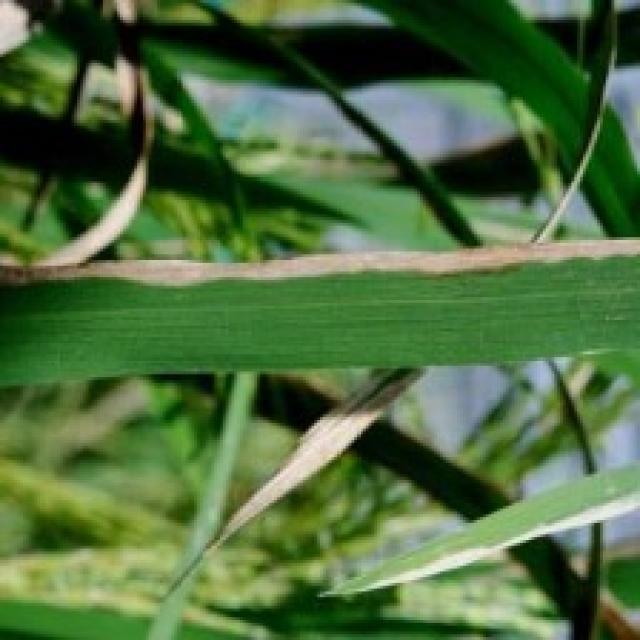Rice___Bacterial_Leaf_Blight: (0, 237, 637, 390)
